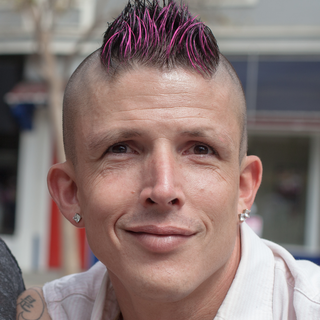eye: (100, 135, 142, 162), (175, 138, 217, 160)
